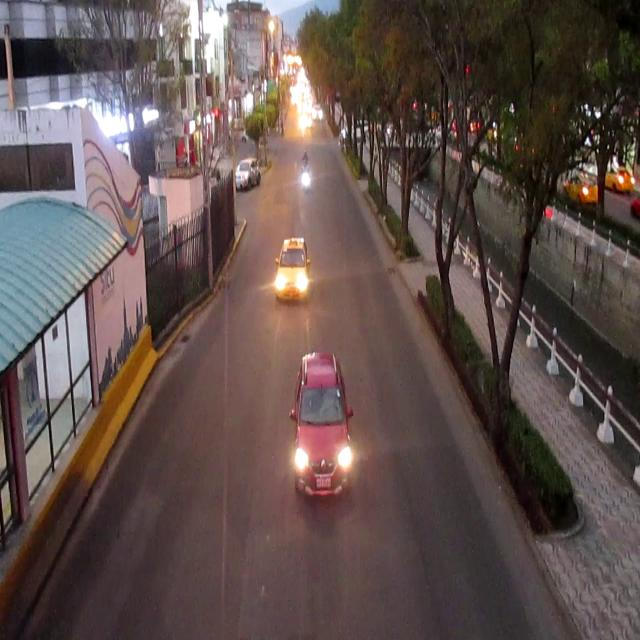MOTORCYCLE: (301, 149, 314, 191)
SUV: (293, 352, 350, 497), (237, 161, 260, 191)
